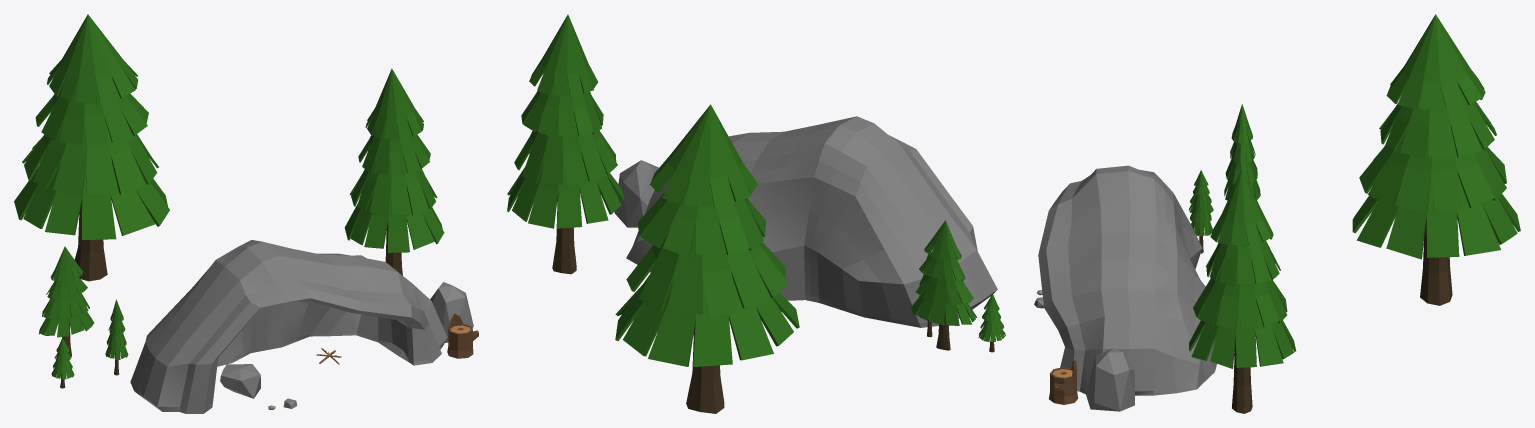
Rendered from cueva.fbx.
3 views of the same model, side by side, from view 1: azimuth 30°, elevation 25°; view 2: azimuth 150°, elevation 25°; view 3: azimuth 270°, elevation 25° (orthographic). The views are drawn at different scales.
Parts seen in each view (by area): view 1: RockCave, Tree5, Tree3, Tree4, Rock4, Rock1, Stump1, Tree6, Tree7; view 2: RockCave, Tree5, Tree3, Tree4, Rock4, Tree7; view 3: RockCave, Tree5, Tree3, Rock4, Tree4, Stump1, Tree6.
Boxes of the visible parts, x1,y1,x2,y2 form: RockCave: (130, 240, 447, 413); Tree5: (14, 14, 169, 281); Tree3: (344, 68, 444, 275); Tree4: (39, 246, 94, 356); Rock4: (430, 282, 473, 342); Rock1: (220, 364, 260, 398); Stump1: (447, 313, 478, 358); Tree6: (105, 299, 128, 375); Tree7: (51, 338, 74, 388); RockCave: (626, 116, 997, 327); Tree5: (615, 104, 799, 413); Tree3: (507, 14, 624, 274); Tree4: (910, 220, 977, 350); Rock4: (614, 160, 658, 227); Tree7: (978, 294, 1005, 352); RockCave: (1038, 165, 1216, 395); Tree5: (1352, 14, 1520, 305); Tree3: (1189, 169, 1296, 413); Rock4: (1086, 348, 1134, 411); Tree4: (1224, 104, 1260, 200); Stump1: (1049, 360, 1078, 404); Tree6: (1190, 171, 1212, 253).
Size of the model in its own units: 464 by 293 by 452.
